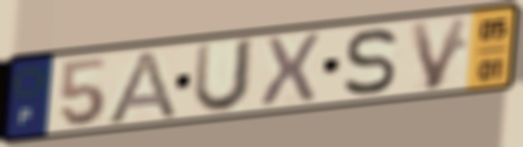5: (58, 55, 109, 129)
A: (101, 47, 180, 127)
S: (340, 25, 401, 98)
U: (189, 35, 259, 116)
V: (406, 13, 473, 94)
X: (257, 30, 324, 111)
